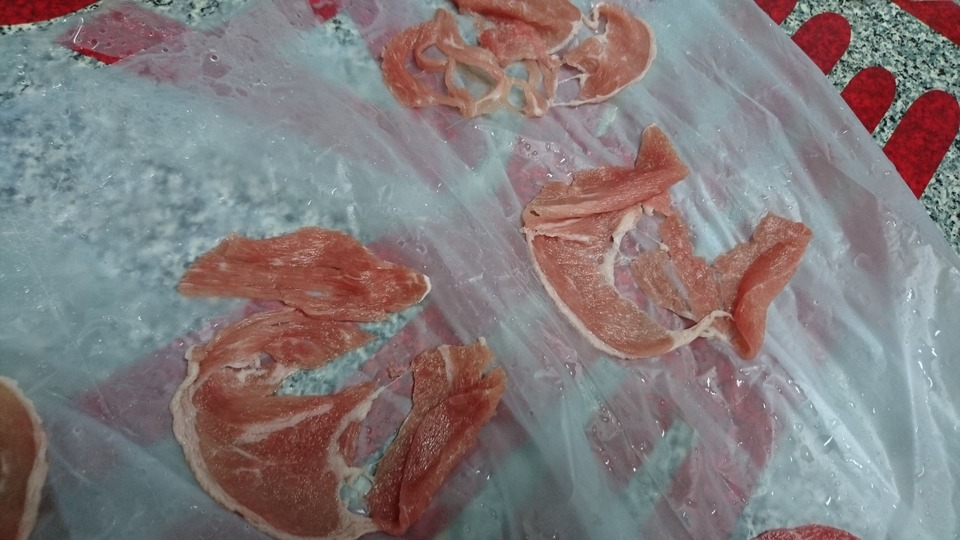restructured meat: (166, 222, 505, 540), (521, 122, 820, 370), (375, 1, 681, 120)
